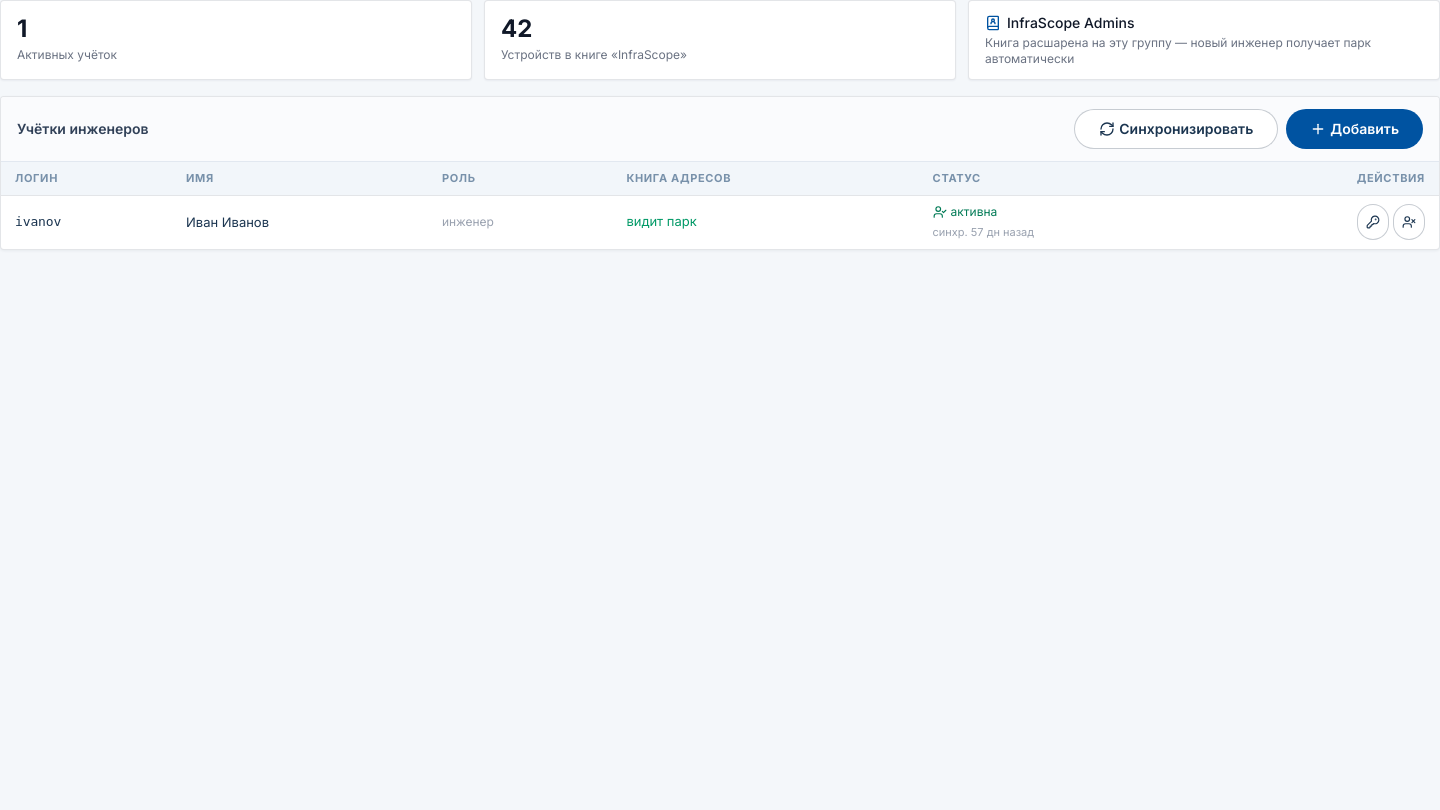
Test: ConsoleAccountsPanel › resets a password and shows it once
This screenshot has width=1440, height=810.
Expected: the text "ivanov" is shown, [1, 195, 172, 248]
Click the button titled "Сбросить пароль".
click(1373, 222)  # box [1357, 204, 1389, 240]
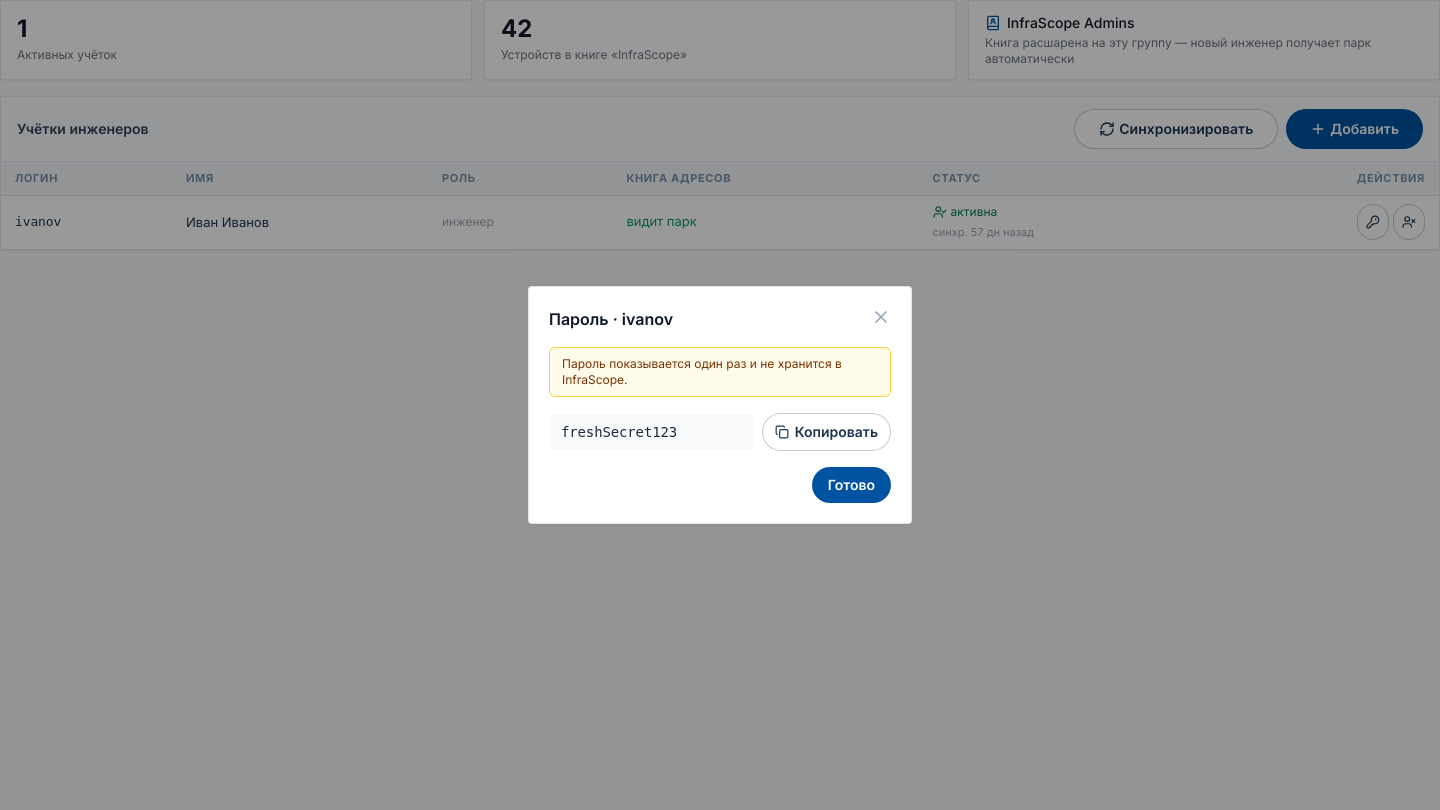
Expected: the text "freshSecret123" is shown, [549, 414, 754, 450]
